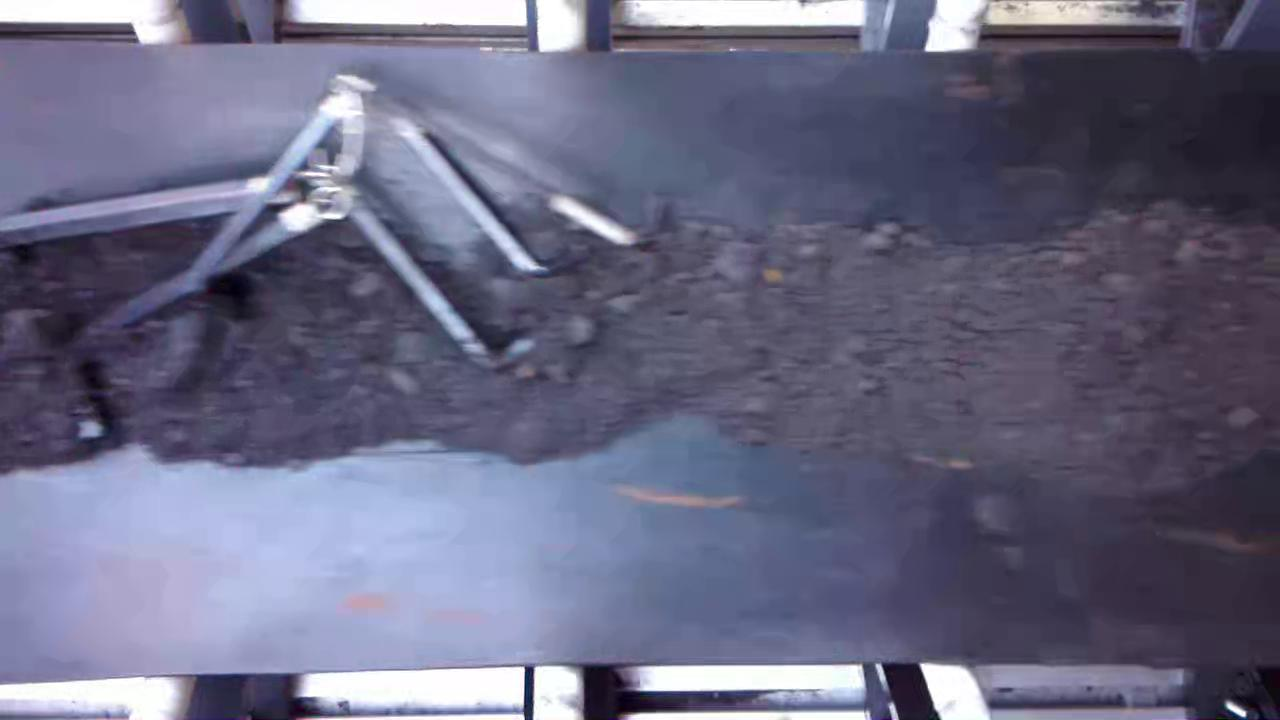conveyor: (3, 59, 1280, 656)
